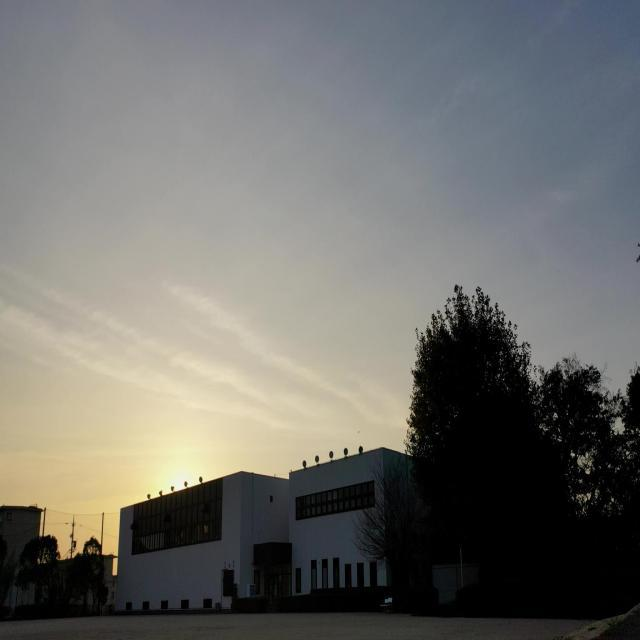Birds: (356, 428, 364, 437)
